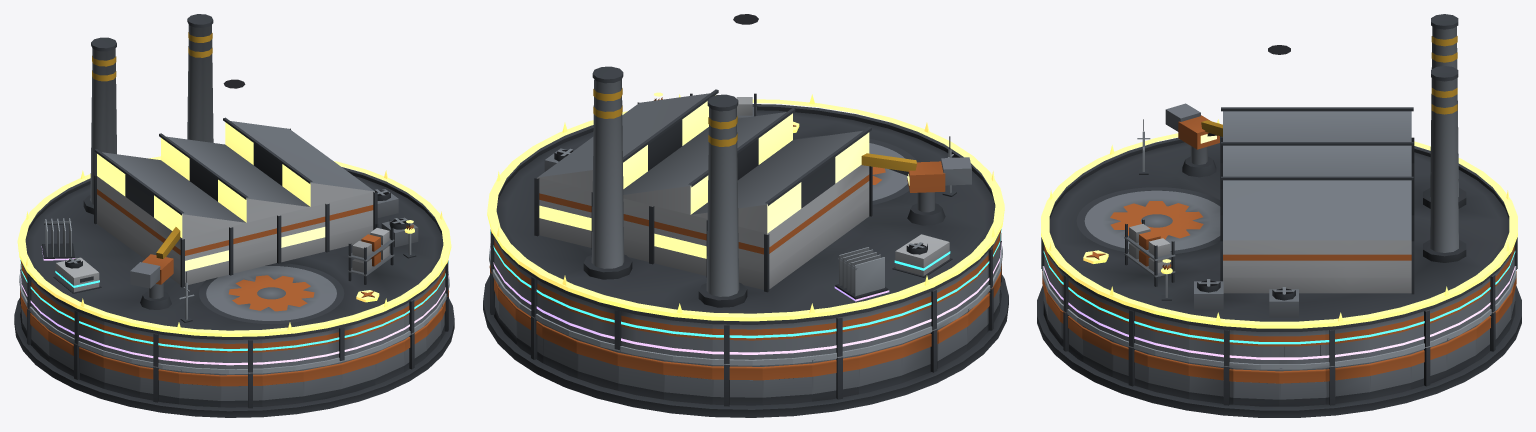
File: workshop_m_far.glb
3 views of the same model, side by side, from view 1: azimuth 30°, elevation 25°; view 2: azimuth 150°, elevation 25°; view 3: azimuth 270°, elevation 25° (orthographic). The views are drawn at different scales.
Parts seen in each view (by area): view 1: Roof, Base, L5, L2, L3, L4; view 2: Roof, Base, L5, L4, L2, L3; view 3: Roof, Base, L5, L2, L4, L3.
Part boxes in pixels (bbox=[...]): Roof: bbox=[20, 14, 448, 372]; Base: bbox=[14, 269, 454, 417]; L5: bbox=[17, 156, 451, 336]; L2: bbox=[19, 271, 449, 374]; L3: bbox=[20, 257, 448, 351]; L4: bbox=[20, 218, 448, 365]; Roof: bbox=[490, 14, 1001, 363]; Base: bbox=[483, 241, 1008, 417]; L5: bbox=[487, 92, 1004, 321]; L4: bbox=[490, 242, 1001, 354]; L2: bbox=[489, 136, 1002, 365]; L3: bbox=[490, 229, 1001, 338]; Roof: bbox=[1041, 14, 1517, 366]; Base: bbox=[1037, 269, 1521, 417]; L5: bbox=[1041, 119, 1517, 328]; L2: bbox=[1042, 119, 1516, 369]; L4: bbox=[1043, 266, 1515, 359]; L3: bbox=[1043, 251, 1515, 344].
Size of the model in its own units: 14.75 by 8.92 by 14.75.
